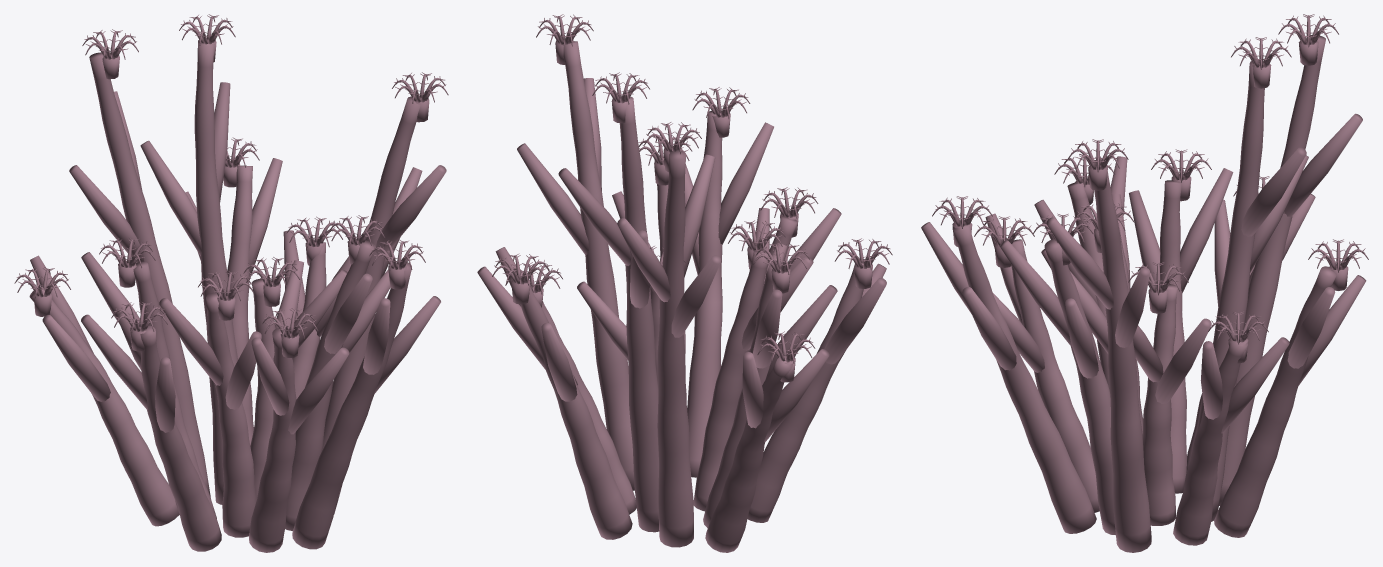
The model's file is kenya-desktop.glb.
3 views of the same model, side by side, from view 1: azimuth 30°, elevation 25°; view 2: azimuth 150°, elevation 25°; view 3: azimuth 270°, elevation 25° (orthographic). The views are drawn at different scales.
Parts seen in each view (by area): view 1: branch, lateral-branch, octocoral-tentacle, polyp-column, pinnule; view 2: branch, lateral-branch, octocoral-tentacle, polyp-column, pinnule; view 3: branch, lateral-branch, octocoral-tentacle, polyp-column, pinnule.
Part boxes in pixels (left/top/right/bottom): branch: left=29, top=42, right=420, bottom=552; lateral-branch: left=30, top=82, right=446, bottom=434; octocoral-tentacle: left=14, top=16, right=448, bottom=339; polyp-column: left=33, top=39, right=429, bottom=357; pinnule: left=16, top=14, right=446, bottom=330; branch: left=508, top=41, right=864, bottom=552; lateral-branch: left=477, top=78, right=886, bottom=441; octocoral-tentacle: left=492, top=16, right=892, bottom=363; polyp-column: left=511, top=39, right=872, bottom=382; pinnule: left=494, top=14, right=890, bottom=354; branch: left=952, top=35, right=1336, bottom=552; lateral-branch: left=921, top=113, right=1366, bottom=433; octocoral-tentacle: left=932, top=15, right=1368, bottom=344; polyp-column: left=952, top=40, right=1348, bottom=363; pinnule: left=935, top=14, right=1365, bottom=334.
Bounding box in the file's own units: 0.4752 × 0.593 × 0.5048.
